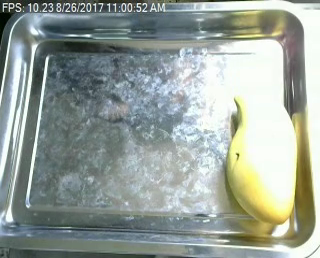Mango: (223, 92, 302, 227)
